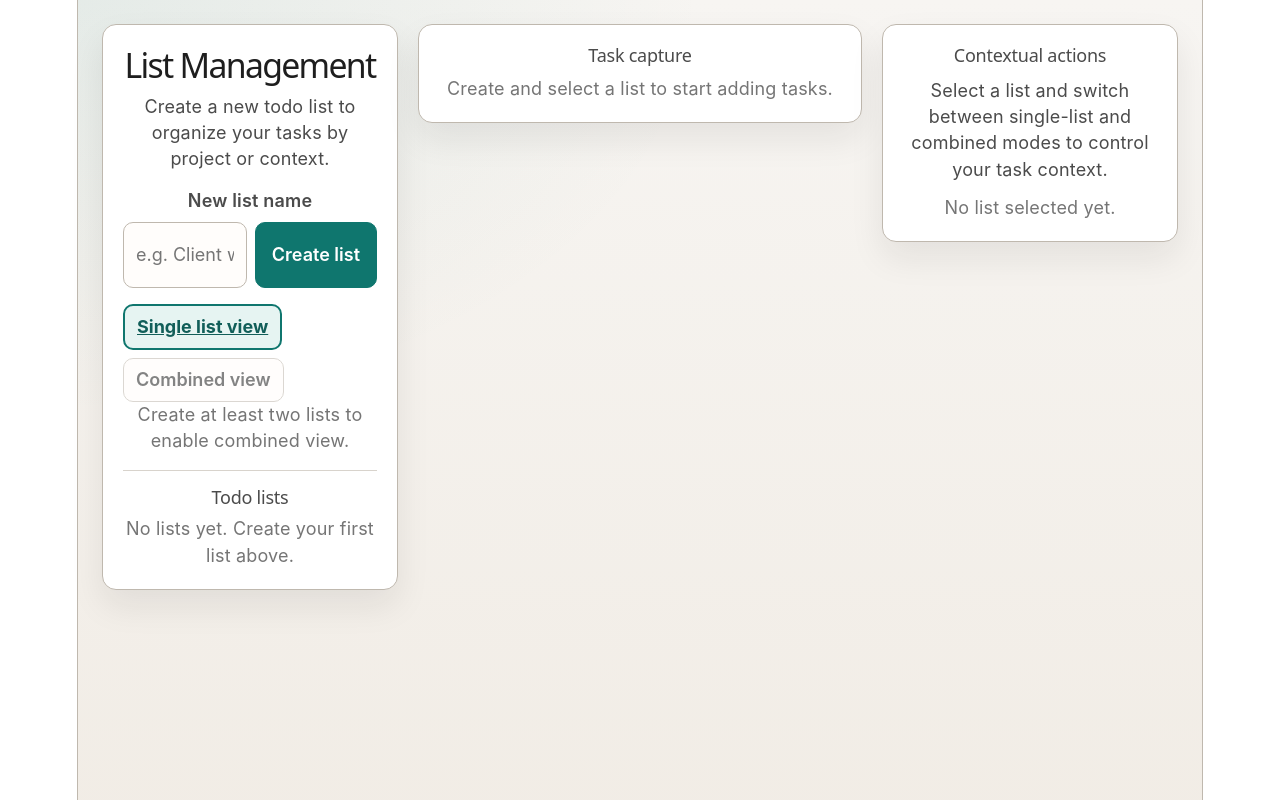
Test case: App integration baseline › creates a list, adds tasks, and prevents duplicate task text in the selected list
Type "Client work" into the field labelled "New list name" at coordinates (185, 255), box 123,222 -> 247,288
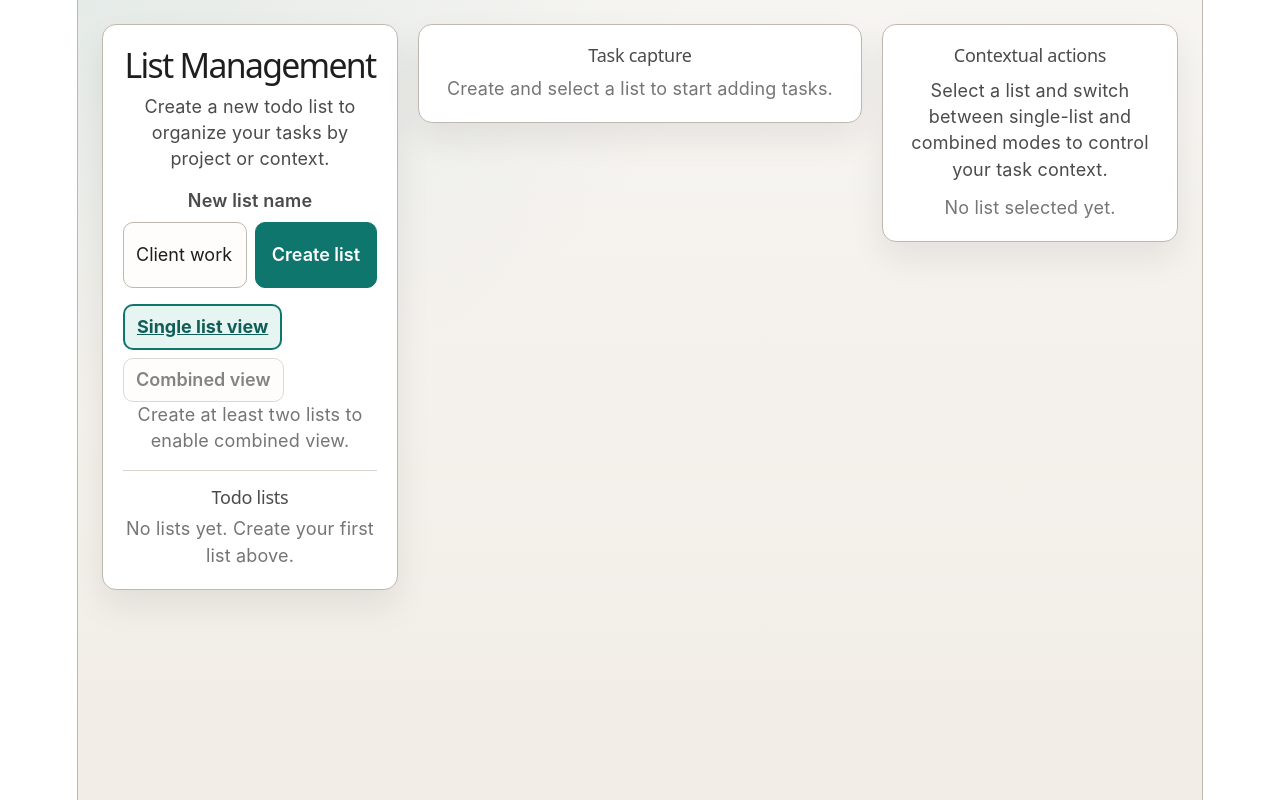
Click the button "Create list" at coordinates (316, 255), box 255,222 -> 377,288
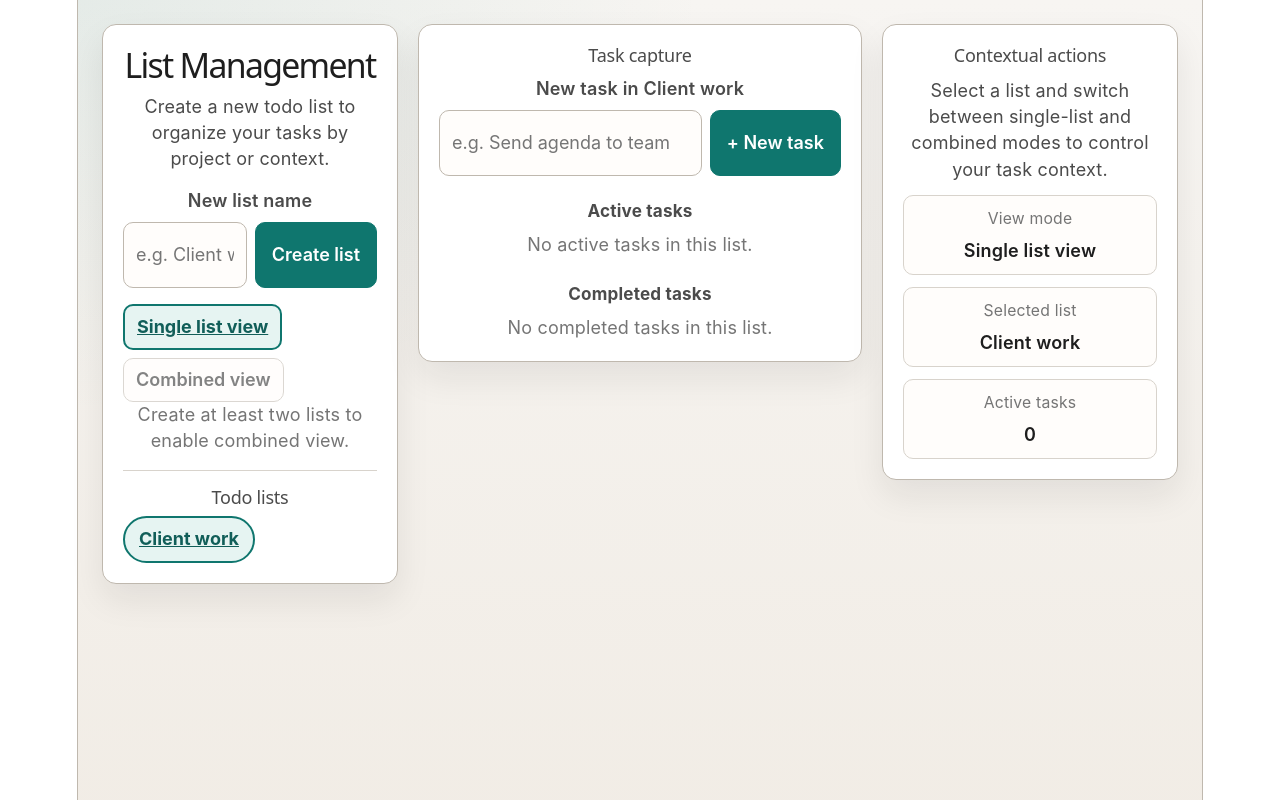
Expected: the button "Client work" is shown, 123,516 -> 255,563
Type "Draft proposal" into the field labelled "New task in Client work" at coordinates (570, 143), box 439,110 -> 702,176
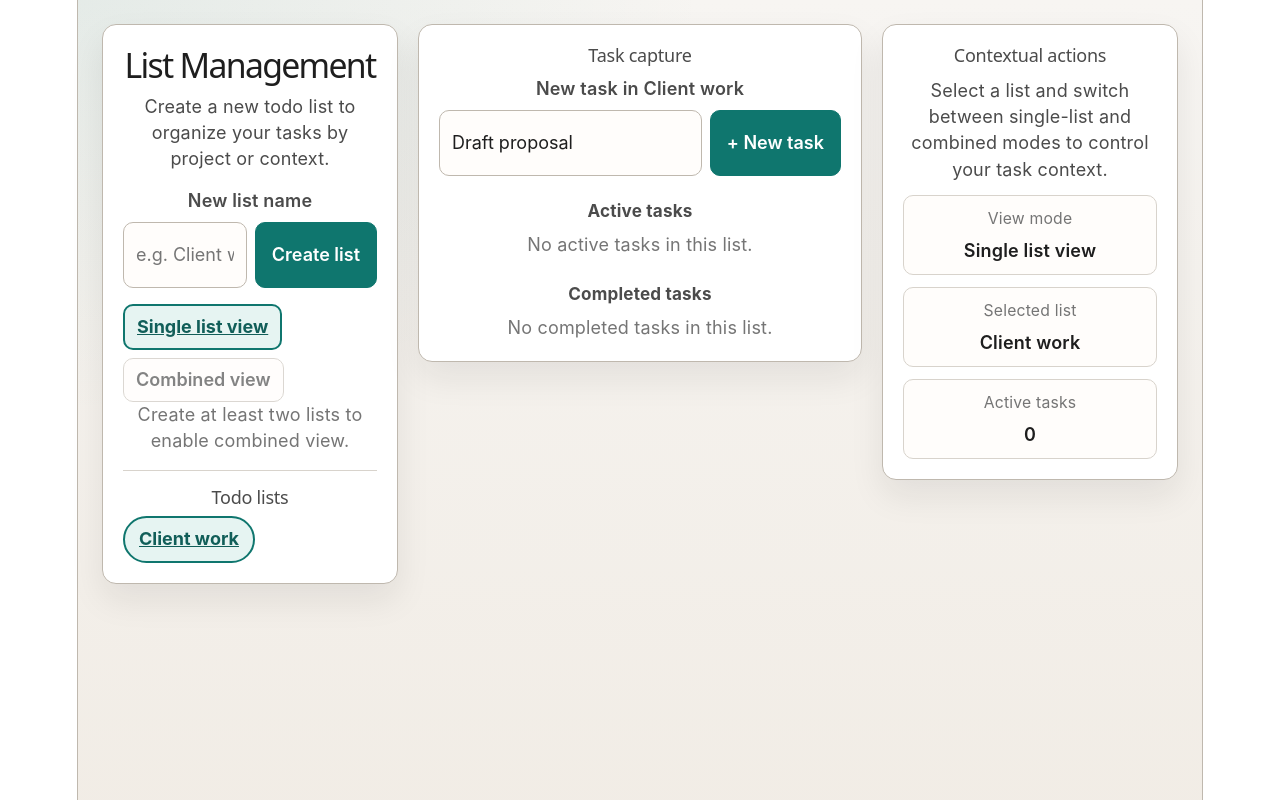
Click the button "+ New task" at coordinates (775, 143), box 710,110 -> 841,176
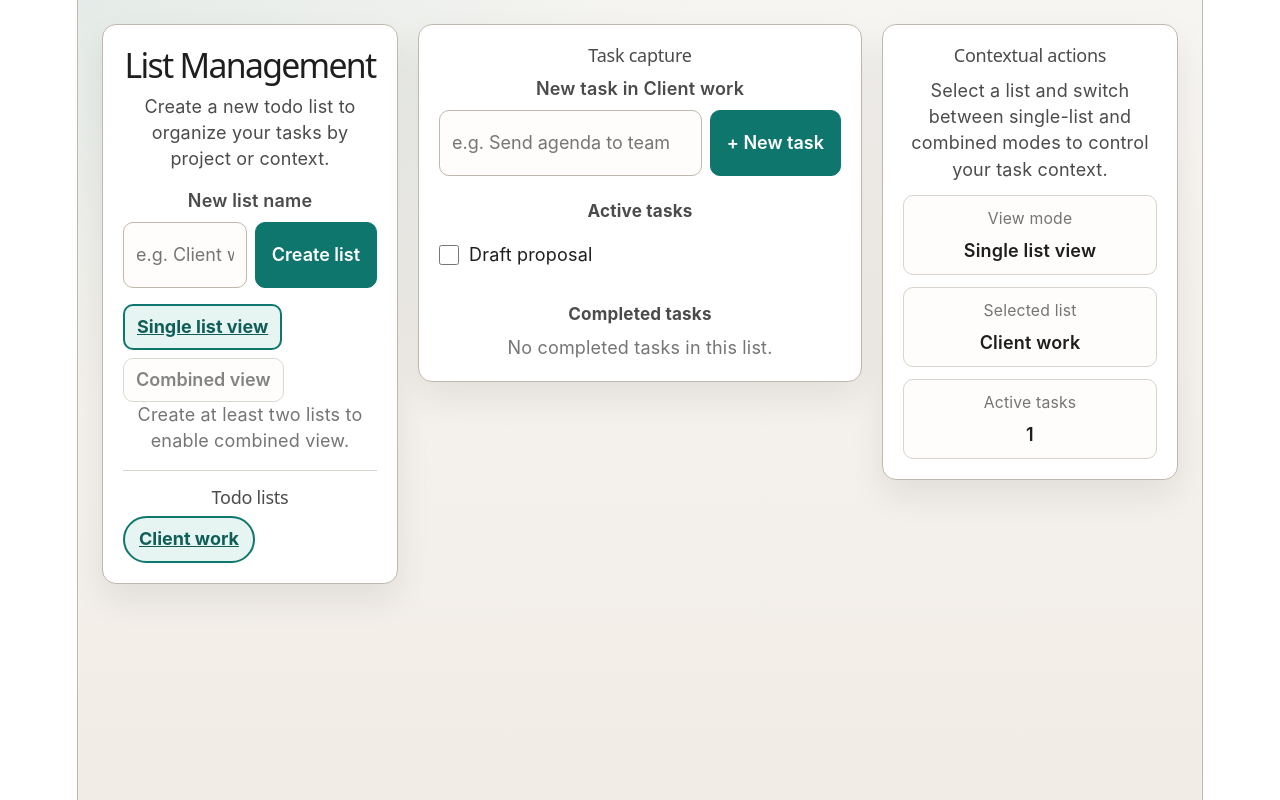
Expected: the text "Draft proposal" is shown, 469,242 -> 592,268
Type "  draft   proposal " into the field labelled "New task in Client work" at coordinates (570, 143), box 439,110 -> 702,176
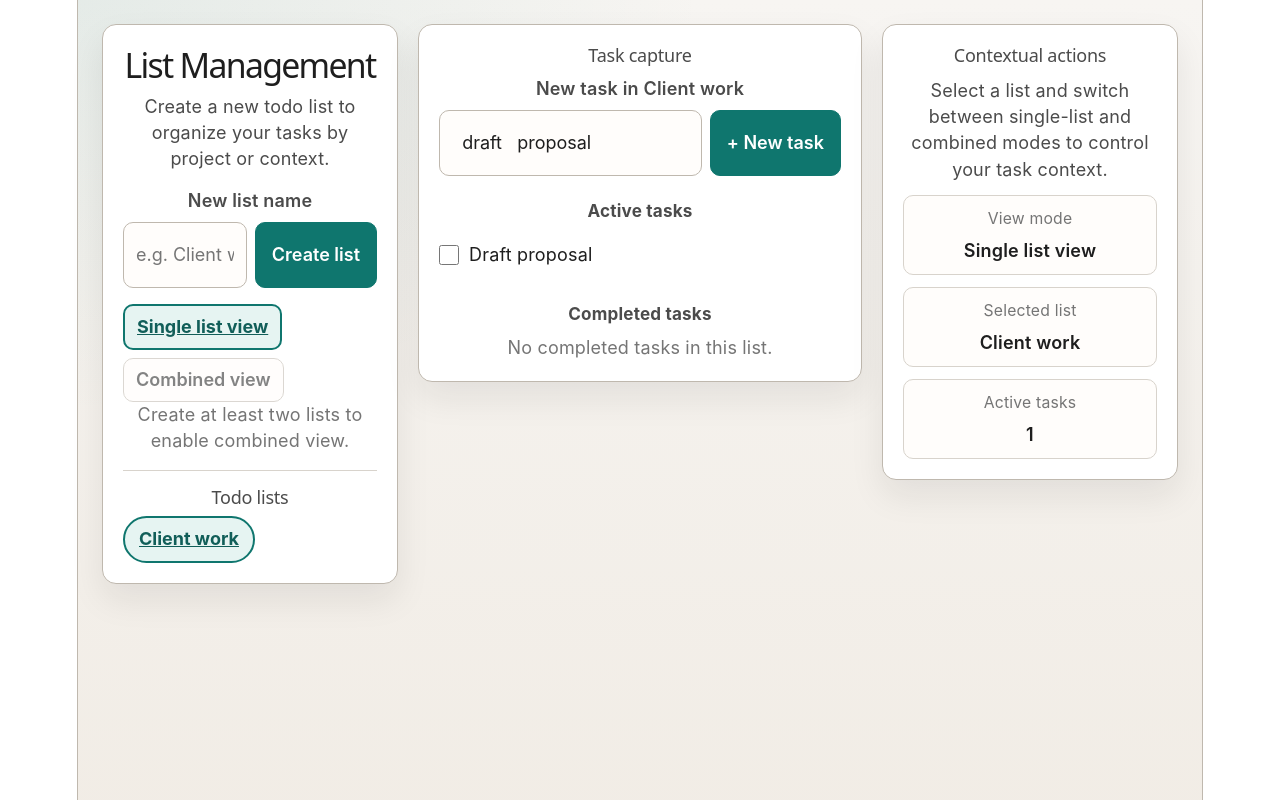
Click the button "+ New task" at coordinates (775, 143), box 710,110 -> 841,176
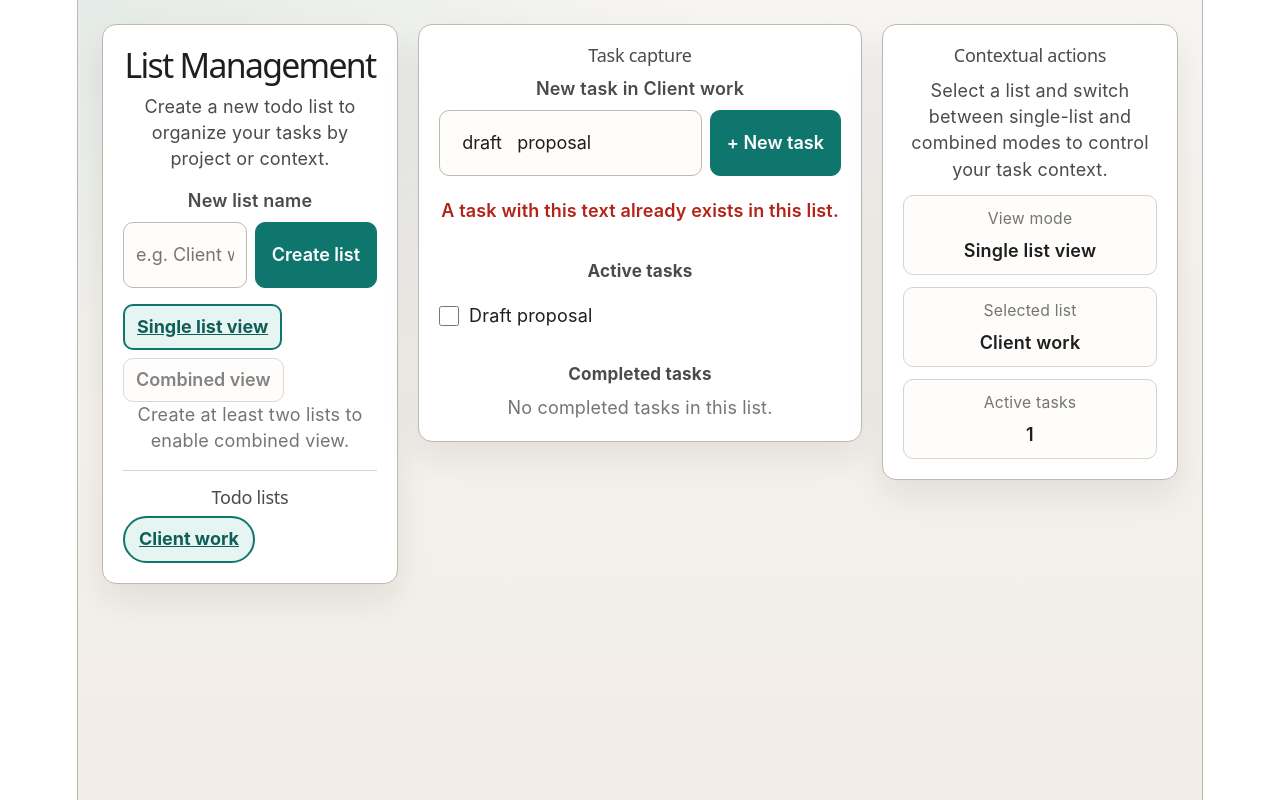
Expected: the message reads "A task with this text already exists in this list.", 441,200 -> 839,221
